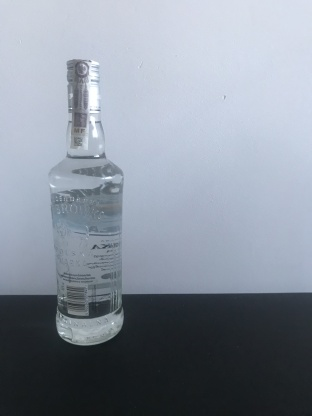nakretka: (63, 55, 103, 117)
